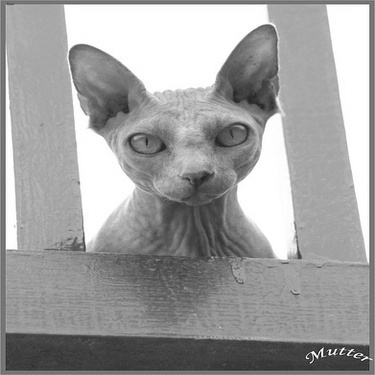cat: (71, 21, 282, 264)
